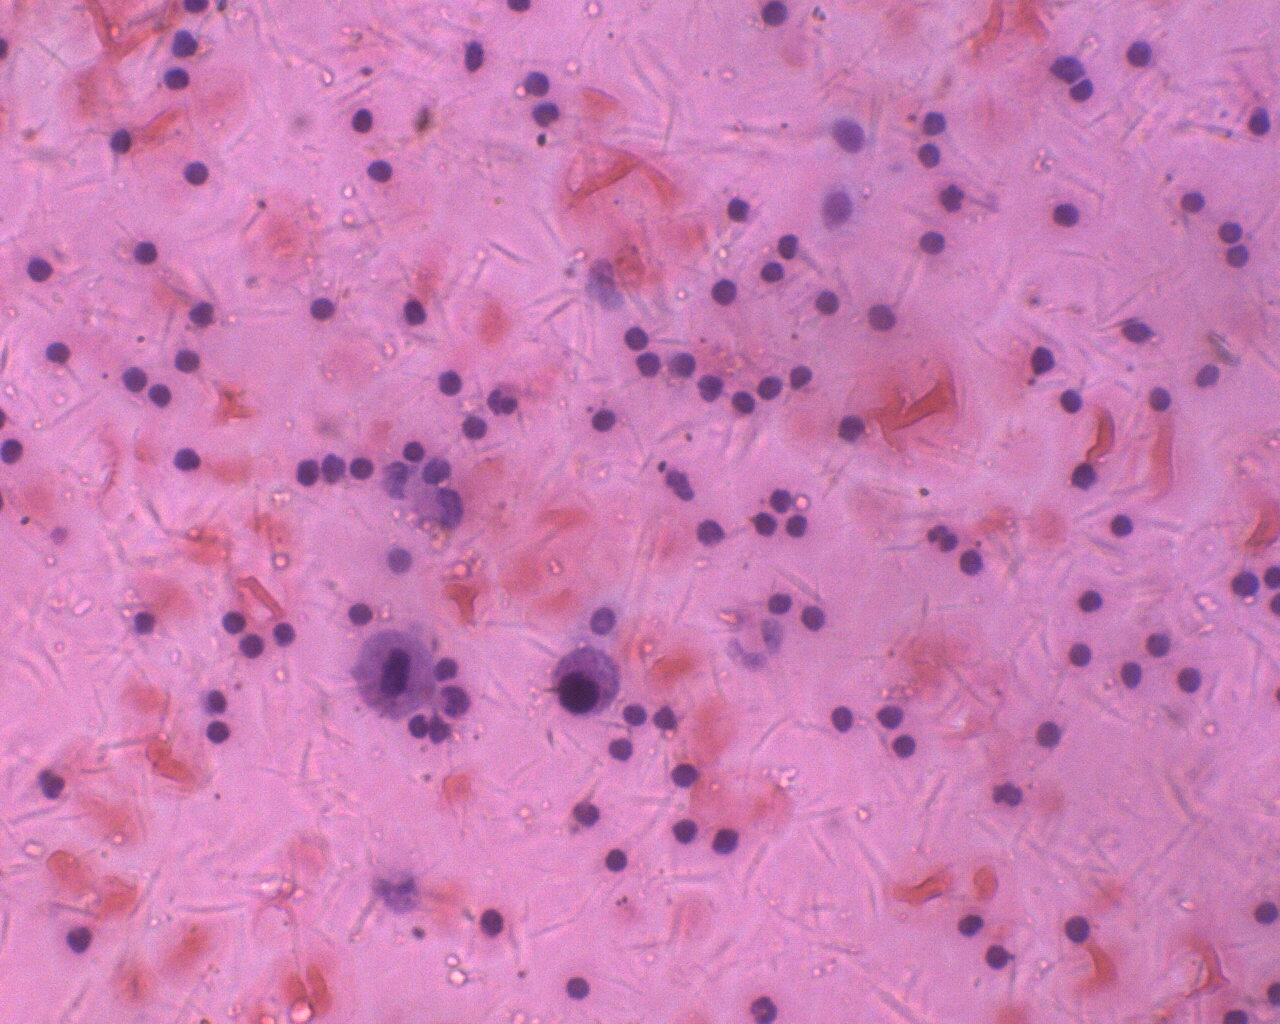histo: (350, 628, 435, 722)
lymph: (1169, 661, 1207, 700), (918, 222, 951, 263), (20, 250, 56, 286), (827, 703, 862, 741), (1061, 910, 1096, 948), (954, 545, 990, 582), (708, 827, 746, 860), (179, 155, 212, 192), (1026, 338, 1058, 376), (619, 320, 654, 354), (1050, 193, 1084, 230), (170, 345, 207, 378), (304, 292, 344, 322), (709, 273, 743, 307), (556, 973, 594, 1003), (1078, 583, 1110, 619), (1123, 39, 1157, 71), (170, 443, 206, 473), (362, 155, 398, 184), (601, 844, 633, 874), (130, 239, 163, 266), (219, 608, 250, 637)
meso: (551, 644, 626, 717)
neutro: (482, 380, 526, 422), (745, 990, 781, 1024)
